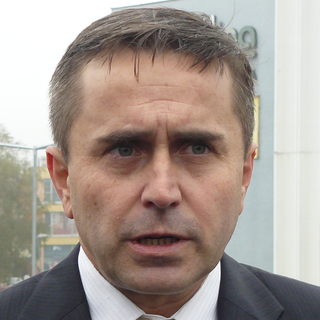eye: (171, 134, 220, 160), (97, 138, 147, 163)
